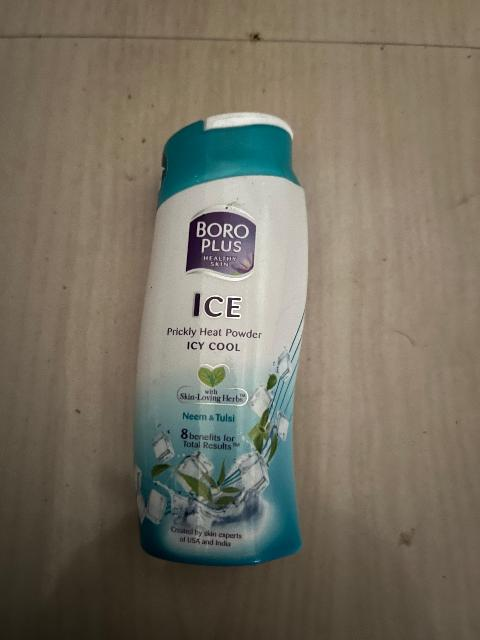boroplus: (149, 113, 310, 570)
